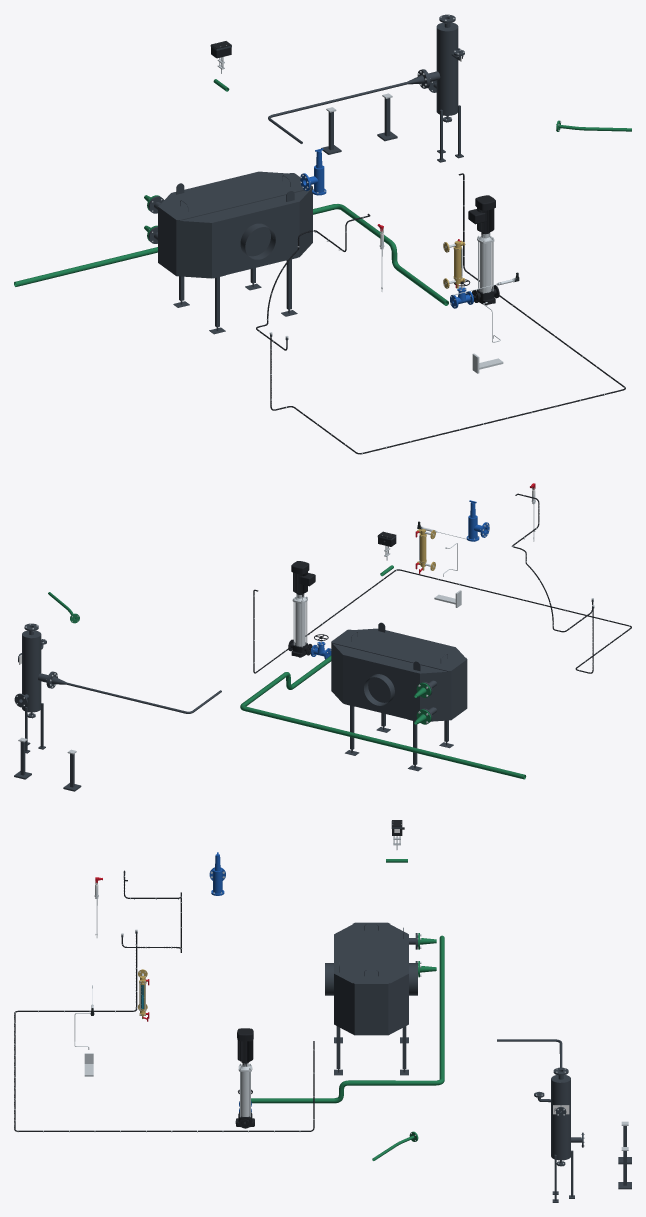
File: s4000-6-DC-z0nQt.glb
3 renders of one model, top to bottom at view 1: azimuth 30°, elevation 25°; view 2: azimuth 150°, elevation 25°; view 3: azimuth 270°, elevation 25°, orthographic. The views are drawn at different scales.
Parts seen in each view (by area): view 1: EQS2-1500 CAD 3, EQS2-1500 CAD 0, separator_fv8 / dark, EQS2-1500 CAD 1, suction_common / green, wiring_pump_2 / black, tds_to_fv / dark, pump_1 CAD solid 15, trap_support / dark, safety_2 / blue, pump_1 CAD solid 2; view 2: EQS2-1500 CAD 3, EQS2-1500 CAD 0, separator_fv8 / dark, suction_common / green, EQS2-1500 CAD 2, wiring_pump_2 / black, tds_to_fv / dark, pump_1 CAD solid 15, trap_support / dark, safety_2 / blue, sight_glasses_2 / sight_glasses_2_0.npz, pump_1 CAD solid 2; view 3: EQS2-1500 CAD 3, separator_fv8 / dark, suction_common / green, wiring_pump_2 / black, EQS2-1500 CAD 0, pump_1 CAD solid 15.
Boxes of the visible parts, <box> form: EQS2-1500 CAD 3: <box>158,171,312,275</box>; EQS2-1500 CAD 0: <box>173,201,299,334</box>; separator_fv8 / dark: <box>422,14,464,162</box>; EQS2-1500 CAD 1: <box>176,220,211,278</box>; suction_common / green: <box>14,204,448,305</box>; wiring_pump_2 / black: <box>270,173,625,454</box>; tds_to_fv / dark: <box>268,69,428,143</box>; pump_1 CAD solid 15: <box>468,195,495,233</box>; trap_support / dark: <box>321,98,397,154</box>; safety_2 / blue: <box>300,148,326,195</box>; pump_1 CAD solid 2: <box>479,242,491,292</box>; EQS2-1500 CAD 3: <box>331,622,467,719</box>; EQS2-1500 CAD 0: <box>343,655,453,771</box>; separator_fv8 / dark: <box>14,623,53,753</box>; suction_common / green: <box>240,655,526,779</box>; EQS2-1500 CAD 2: <box>420,671,451,721</box>; wiring_pump_2 / black: <box>253,569,631,673</box>; tds_to_fv / dark: <box>48,672,221,713</box>; pump_1 CAD solid 15: <box>291,561,315,594</box>; trap_support / dark: <box>14,742,81,791</box>; safety_2 / blue: <box>466,500,489,541</box>; sight_glasses_2 / sight_glasses_2_0.npz: <box>415,529,435,573</box>; pump_1 CAD solid 2: <box>295,602,305,646</box>; EQS2-1500 CAD 3: <box>334,922,408,1035</box>; separator_fv8 / dark: <box>534,1067,583,1202</box>; suction_common / green: <box>251,935,444,1103</box>; wiring_pump_2 / black: <box>14,933,314,1131</box>; EQS2-1500 CAD 0: <box>325,963,417,1075</box>; pump_1 CAD solid 15: <box>237,1028,253,1062</box>.
Bounding box in the file's own units: 6.71 × 2.82 × 6.75.
